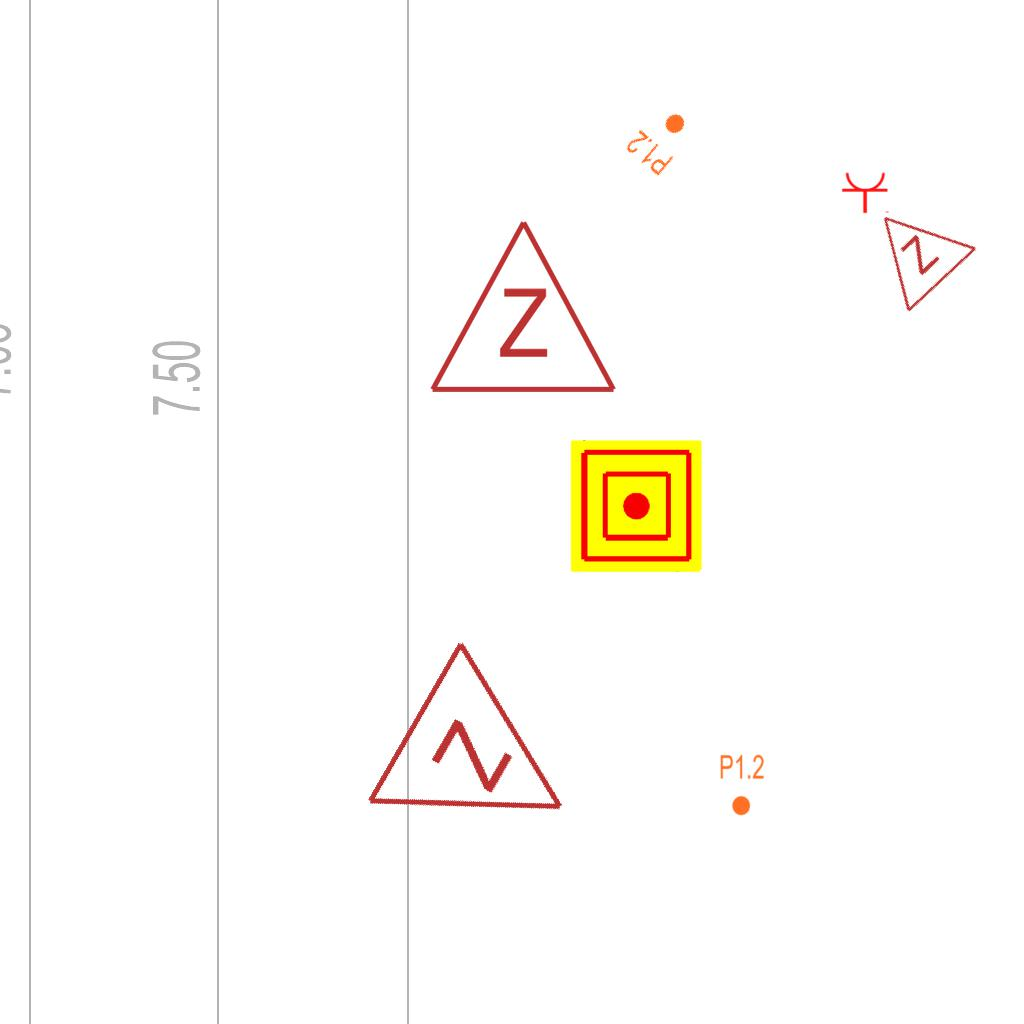Downlight_LED_Einbauleuchten_Flur: (622, 99, 700, 179), (719, 753, 765, 817)
NAM-Nichtautomatischer_Melder: (570, 440, 702, 572)
Schukosteckdose_einfach: (841, 171, 891, 214)
Zimmersignalleuchte: (352, 627, 624, 897), (423, 207, 619, 407), (843, 180, 983, 320)
